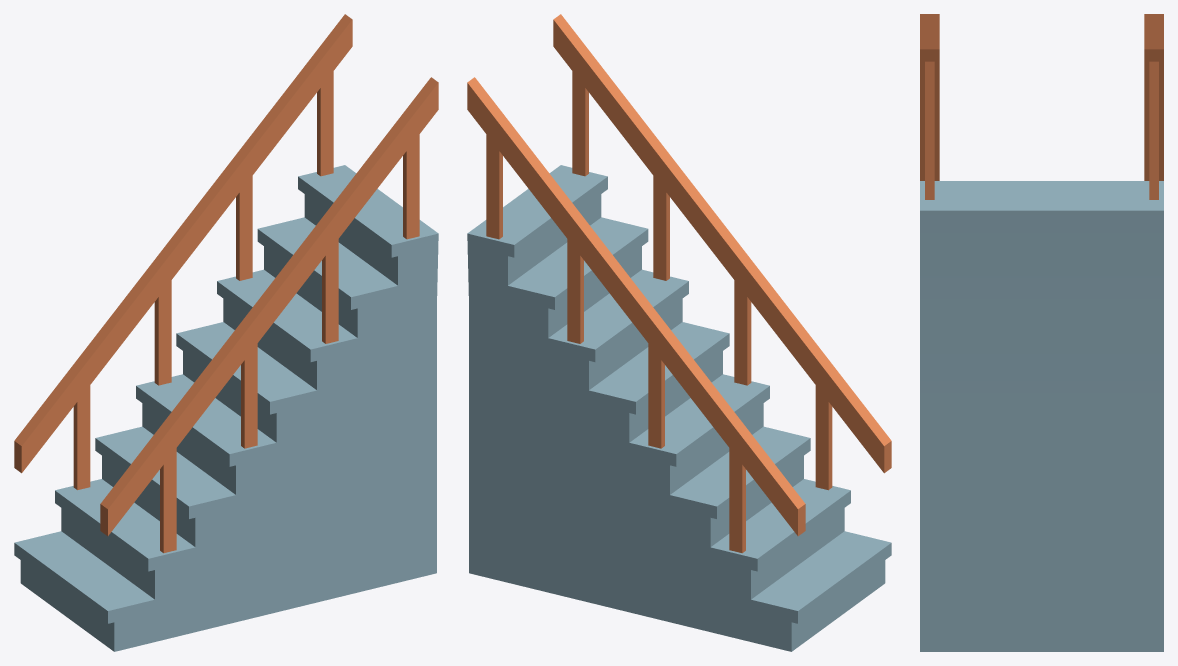
Rendered from stairs.obj.
3 views of the same model, side by side, from view 1: azimuth 30°, elevation 25°; view 2: azimuth 150°, elevation 25°; view 3: azimuth 270°, elevation 25° (orthographic). The views are drawn at different scales.
Visible parts, largest first — view 1: stairsStoneHandrail; view 2: stairsStoneHandrail; view 3: stairsStoneHandrail.
Part boxes in pixels (x1,y1,x2,y2): stairsStoneHandrail: [14, 14, 438, 651]; stairsStoneHandrail: [467, 14, 891, 651]; stairsStoneHandrail: [920, 14, 1163, 651].
Bounding box in the file's own units: 1.02 × 1.45 × 0.5.
